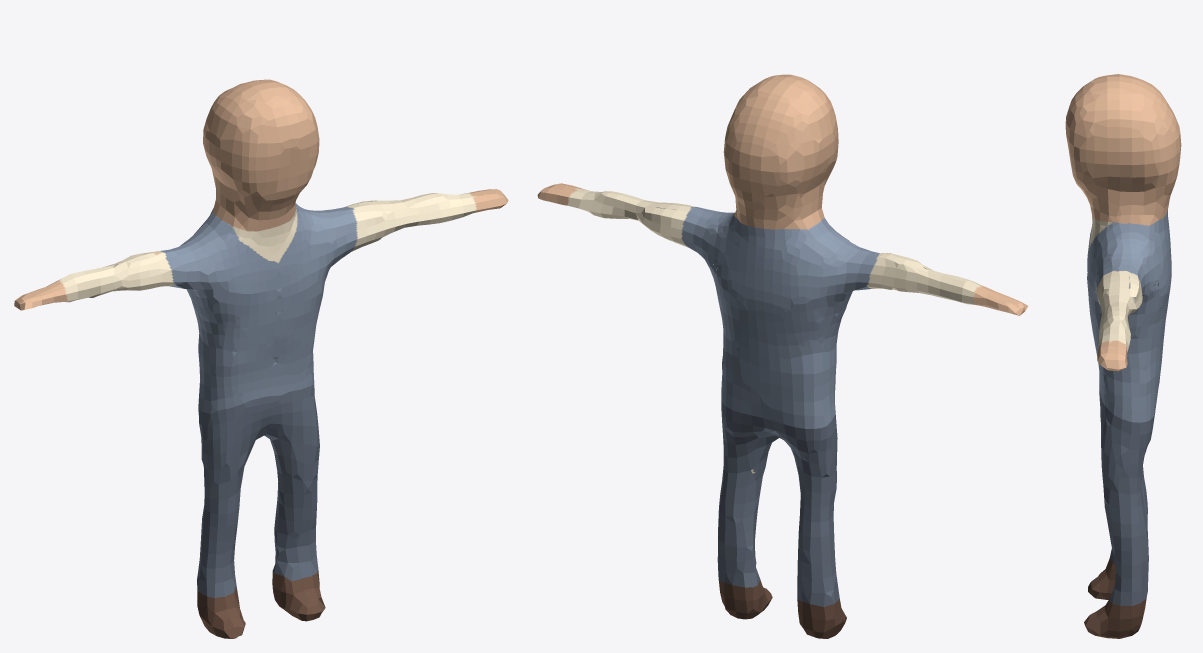
The model's file is man_1.fbx.
3 views of the same model, side by side, from view 1: azimuth 30°, elevation 25°; view 2: azimuth 150°, elevation 25°; view 3: azimuth 270°, elevation 25° (orthographic).
Parts seen in each view (by area): view 1: Man_.001; view 2: Man_.001; view 3: Man_.001.
Part boxes in pixels (x1,y1,x2,y2): Man_.001: (14,79,508,638); Man_.001: (537,74,1028,638); Man_.001: (1065,74,1181,638).
Size of the model in its own units: 472 by 548 by 111.
Materials: 1 (1 with a texture image).
